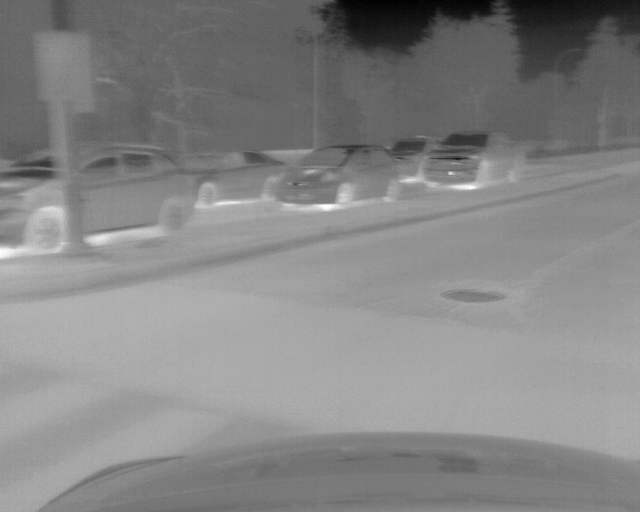car: (1, 142, 190, 254), (273, 143, 398, 204), (420, 131, 527, 190), (183, 150, 289, 205), (391, 136, 443, 183)
